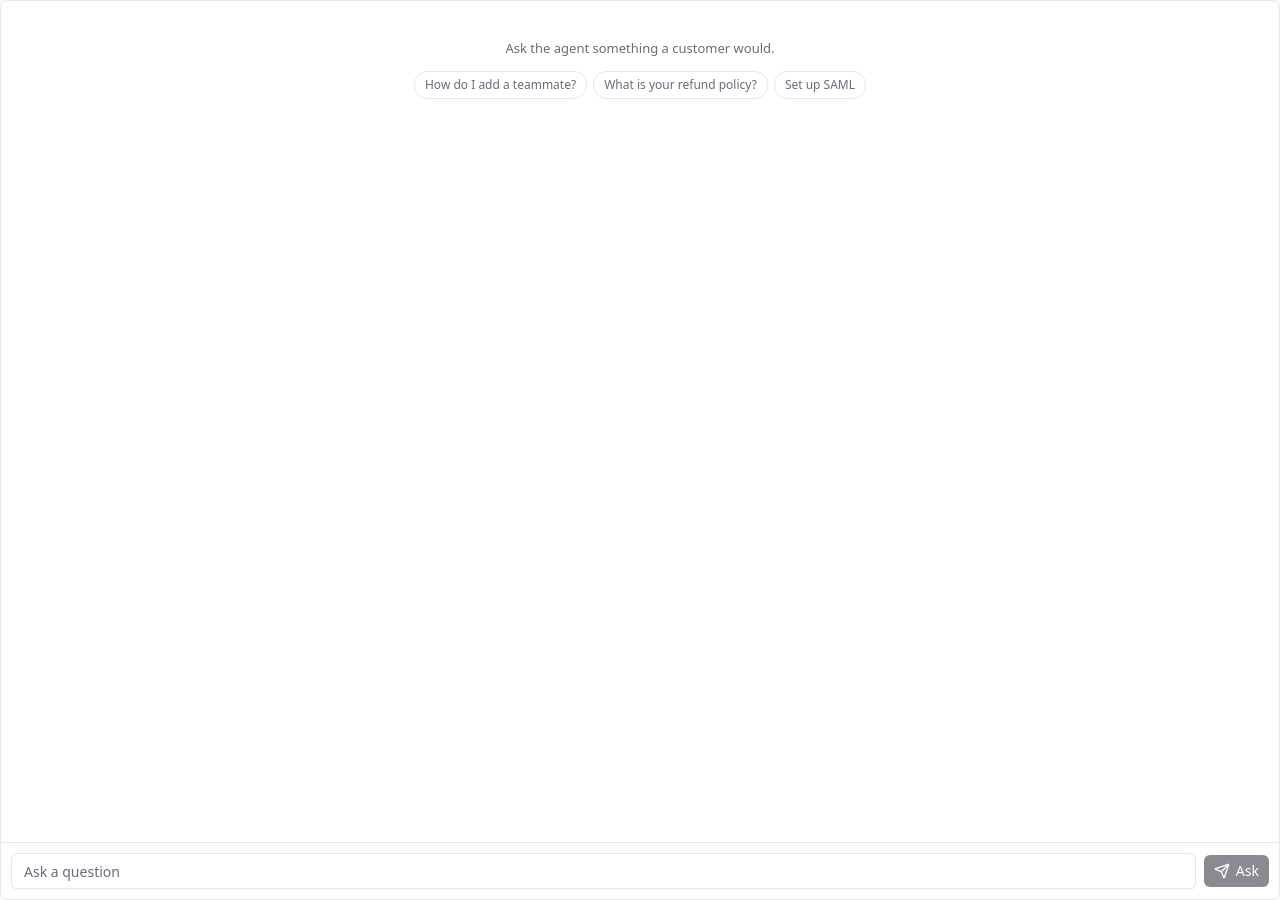
AI-9: the agent answers and escalates, and does nothing else › escalates rather than answering when it is out of its depth
The image size is (1280, 900).
In the field named "ask the agent": x=603, y=871 [11, 853, 1196, 889], type "please refund my last invoice"
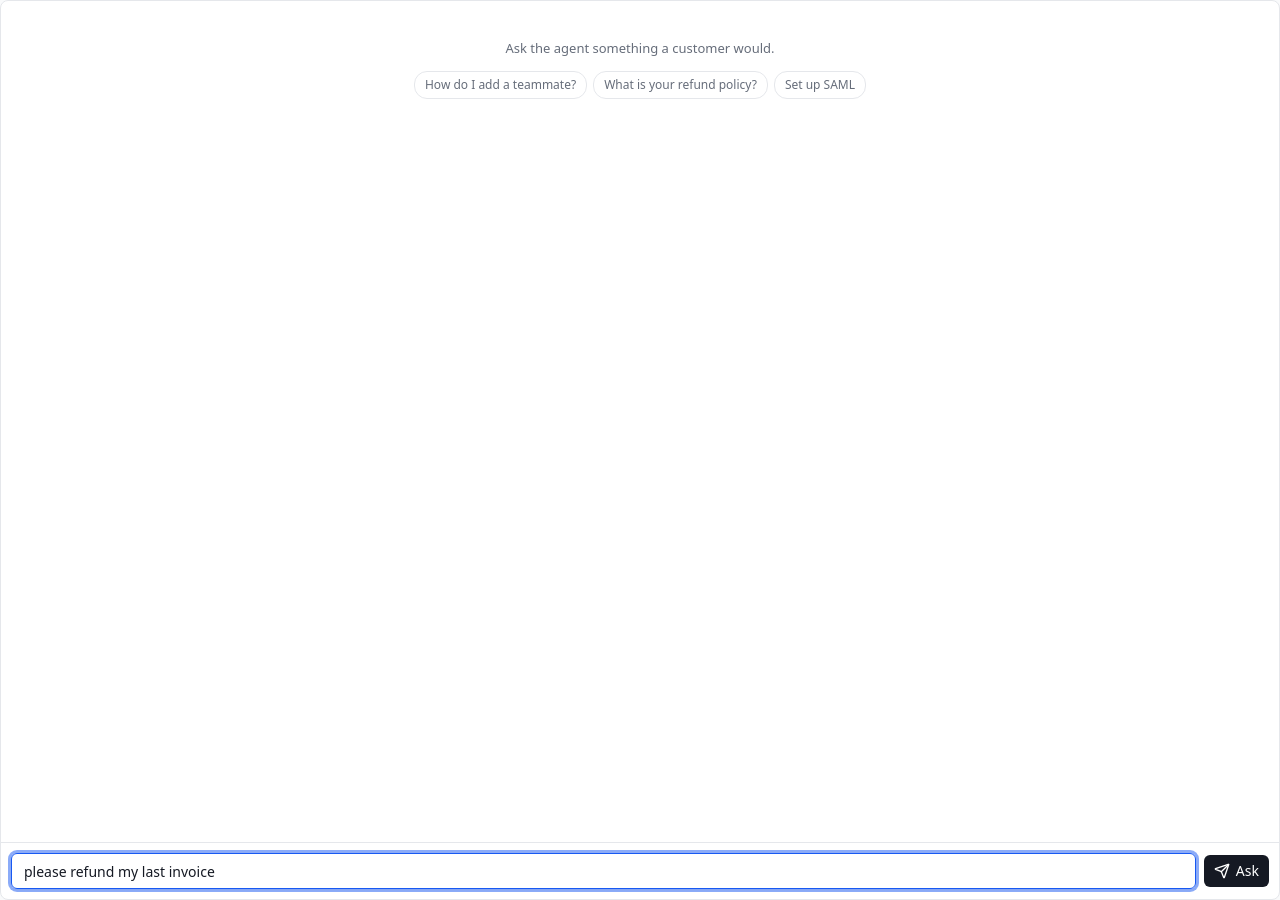
Click the button "Ask": x=1236, y=871 [1204, 855, 1269, 887]
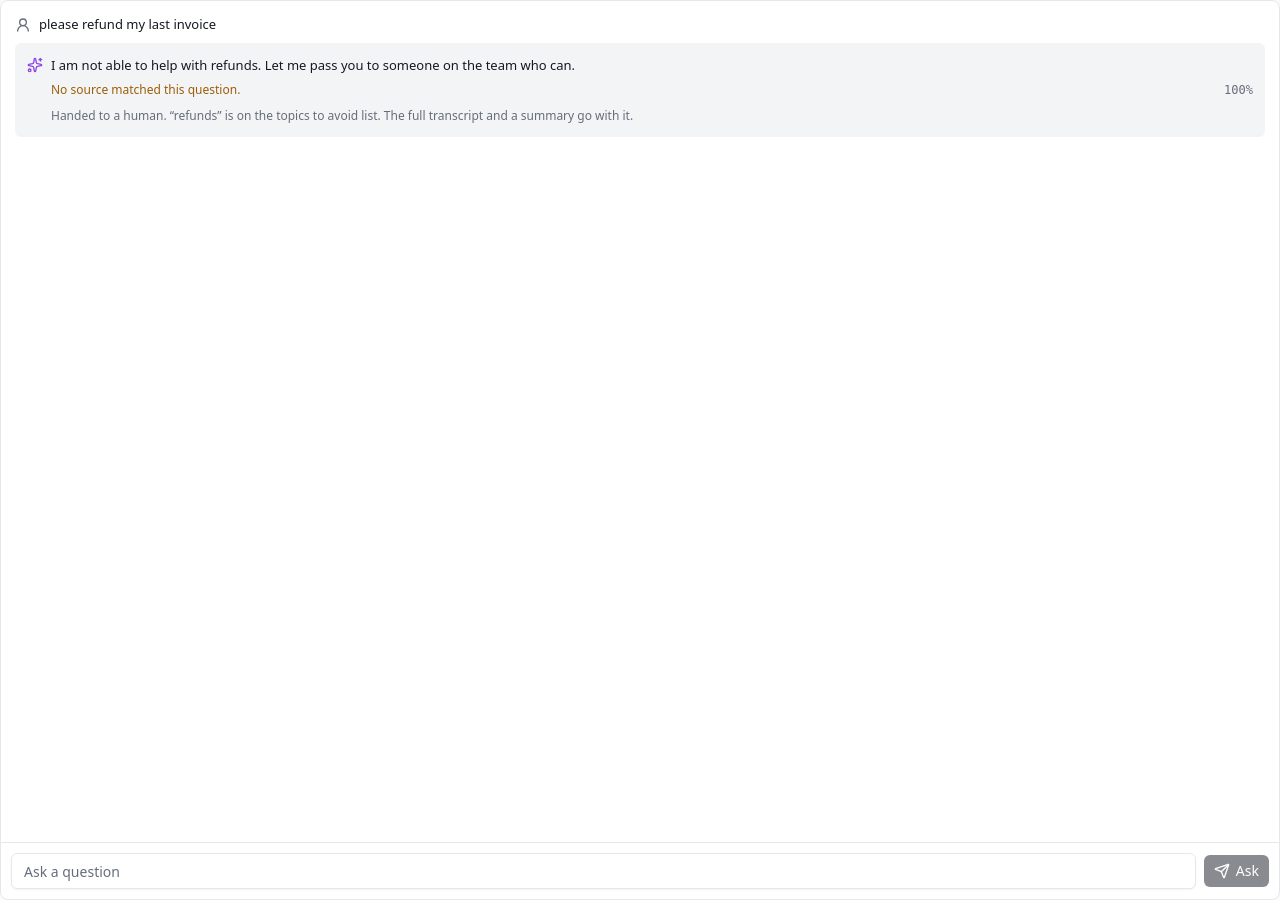
Expected: the text "pass you to someone on the team" is shown, [51, 56, 575, 74]
